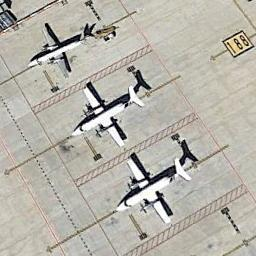Airplane: (112, 150, 196, 226), (67, 80, 148, 147), (24, 25, 95, 79)
